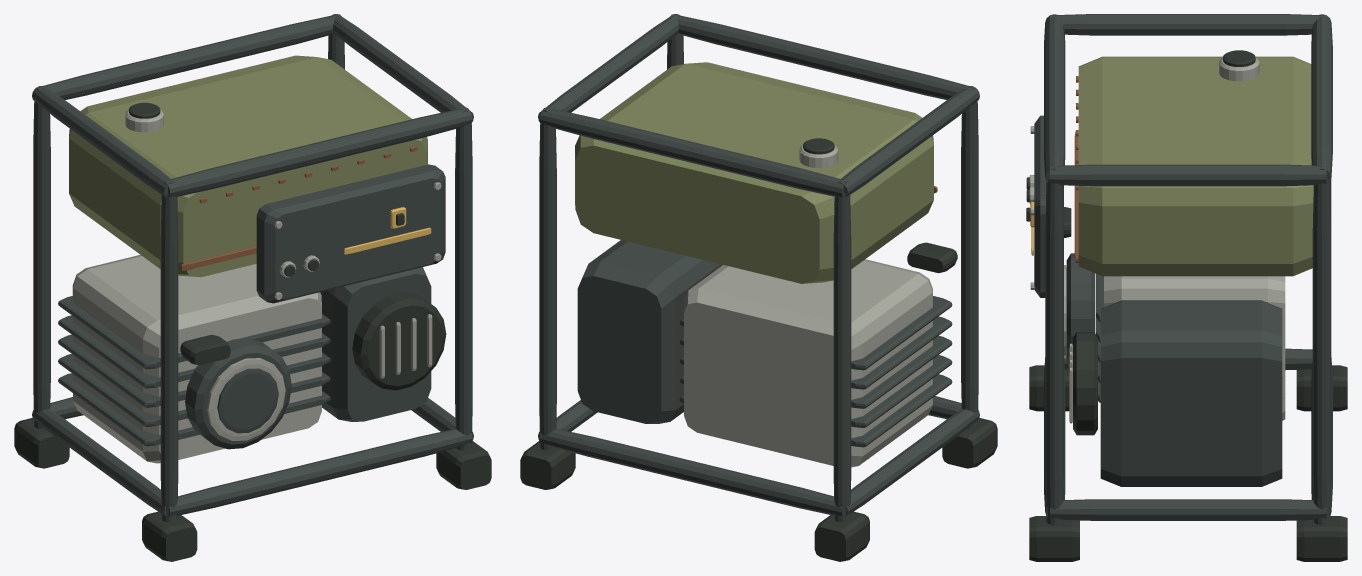
Rendered from generador.glb.
The picture shows the model from 3 angles, left to right: view 1: azimuth 30°, elevation 25°; view 2: azimuth 150°, elevation 25°; view 3: azimuth 270°, elevation 25°; orthographic projection. The views are drawn at different scales.
Visible parts, largest first — view 1: Generador portátil; view 2: Generador portátil; view 3: Generador portátil.
Boxes of the visible parts, bbox=[...] form: Generador portátil: bbox=[14, 14, 491, 561]; Generador portátil: bbox=[520, 14, 997, 561]; Generador portátil: bbox=[1026, 14, 1347, 561].
Size of the model in its own units: 1.25 by 1.35 by 1.01.
